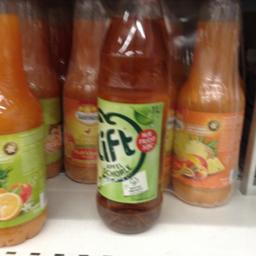juice: (96, 0, 170, 235), (170, 0, 244, 207), (0, 1, 47, 247)
